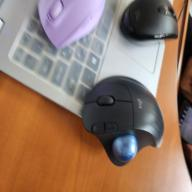Mouse: (81, 74, 165, 168), (37, 0, 107, 52), (118, 0, 178, 47)
